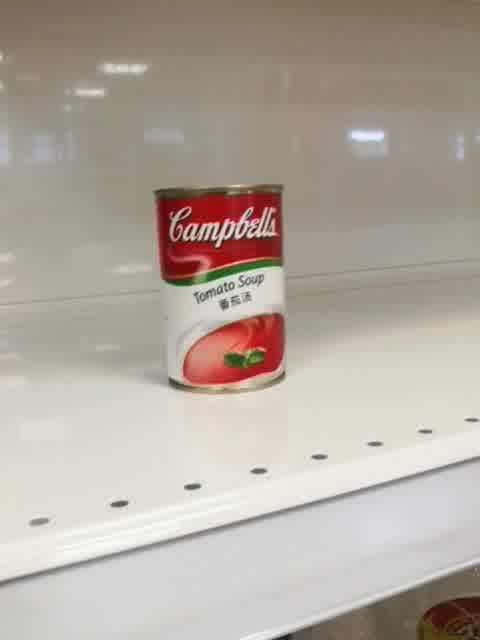tomatosoup: (150, 180, 289, 397)
